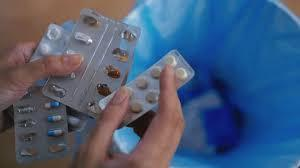pill_Strip: (43, 9, 139, 115), (123, 50, 194, 125), (44, 15, 107, 98), (48, 11, 108, 98), (14, 79, 68, 163), (86, 23, 139, 103), (13, 87, 67, 163), (181, 90, 227, 155), (43, 97, 69, 158), (30, 24, 70, 61), (30, 24, 70, 60), (67, 107, 95, 152), (67, 107, 93, 133), (67, 112, 89, 131), (107, 134, 125, 154), (48, 83, 65, 97), (104, 64, 120, 78), (74, 32, 92, 44), (112, 48, 128, 61), (46, 27, 61, 40), (46, 27, 60, 40), (96, 83, 111, 95), (16, 132, 36, 141), (17, 118, 36, 127), (83, 16, 100, 26), (145, 90, 158, 103), (121, 30, 136, 41), (48, 143, 66, 152), (68, 115, 80, 128), (164, 55, 177, 67), (129, 101, 142, 113), (135, 77, 148, 89), (20, 147, 37, 156), (47, 128, 65, 136), (47, 115, 65, 123), (175, 68, 187, 80), (17, 105, 33, 113), (150, 67, 161, 78), (39, 43, 50, 54), (44, 101, 60, 108), (88, 102, 99, 112), (126, 87, 132, 97), (65, 49, 77, 53), (23, 91, 30, 97), (70, 72, 75, 79), (48, 143, 56, 146), (91, 87, 94, 92)
